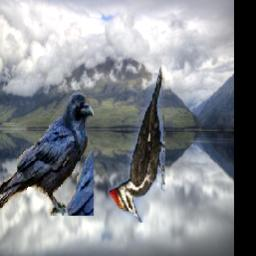Crow: (0, 91, 95, 217)
Woodpecker: (108, 59, 165, 222)
